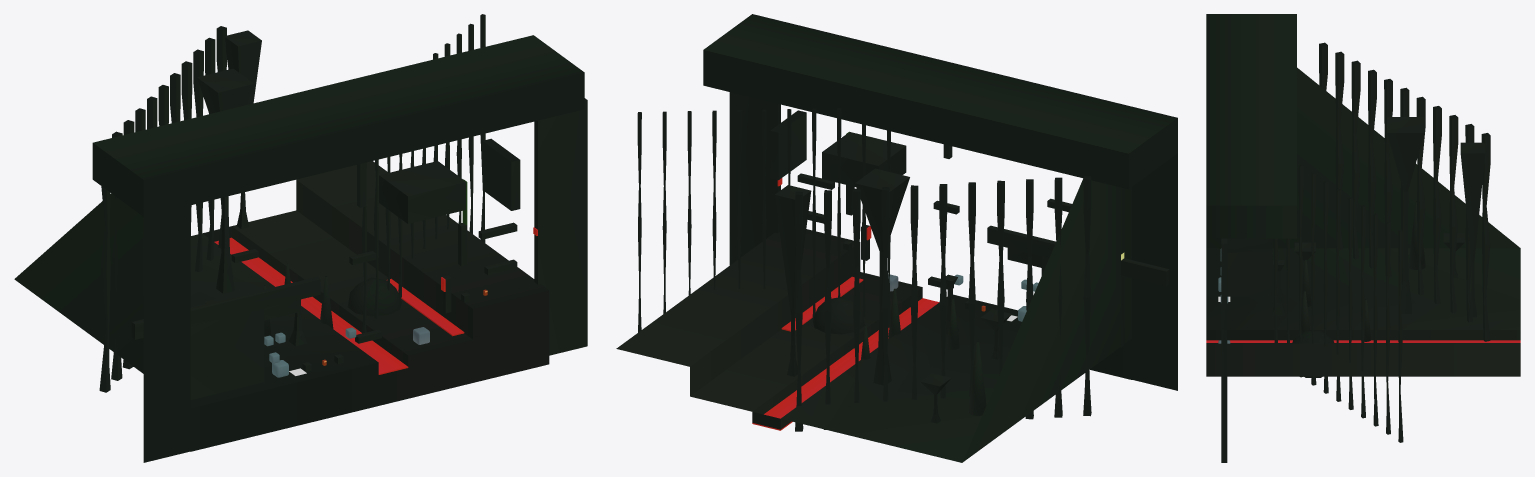
Rendered from tutorial.glb.
3 views of the same model, side by side, from view 1: azimuth 30°, elevation 25°; view 2: azimuth 150°, elevation 25°; view 3: azimuth 270°, elevation 25° (orthographic). The views are drawn at different scales.
Visible parts, largest first — view 1: Ground.069, Ground.075, Pole.004, Ground.073, Ground.078, Pole.005, Cube.014, Ground.072, danger, Ground.077, Cube.015, Icosphere.002 (+1 smaller); view 2: Ground.069, Pole.004, Pole.005, Ground.075, Cube.014, Ground.078, Cube.015, danger, Ground.072, Ground.077, Icosphere.002, Cylinder.014 (+1 smaller); view 3: Ground.069, Pole.004, Pole.005, Cube.014, Ground.077, Cube.015, Ground.075, danger, Cylinder.014, Ground.078, Icosphere.002, Cube.012.
Boxes of the visible parts, x1=… form: Ground.069: x1=14, y1=35, x2=584, y2=462; Ground.075: x1=534, y1=98, x2=587, y2=355; Pole.004: x1=99, y1=26, x2=226, y2=392; Ground.073: x1=190, y1=308, x2=264, y2=399; Ground.078: x1=379, y1=161, x2=465, y2=223; Pole.005: x1=362, y1=14, x2=485, y2=333; Cube.014: x1=197, y1=68, x2=253, y2=293; Ground.072: x1=131, y1=276, x2=320, y2=339; danger: x1=214, y1=237, x2=408, y2=374; Ground.077: x1=482, y1=138, x2=520, y2=210; Cube.015: x1=225, y1=30, x2=261, y2=229; Icosphere.002: x1=347, y1=277, x2=401, y2=316; Ground.069: x1=616, y1=14, x2=1177, y2=462; Pole.004: x1=795, y1=176, x2=1091, y2=431; Pole.005: x1=637, y1=108, x2=890, y2=332; Ground.075: x1=729, y1=92, x2=780, y2=265; Cube.014: x1=855, y1=168, x2=909, y2=385; Ground.078: x1=822, y1=132, x2=906, y2=186; Cube.015: x1=774, y1=185, x2=811, y2=376; danger: x1=752, y1=298, x2=939, y2=430; Ground.072: x1=987, y1=225, x2=1169, y2=286; Ground.077: x1=770, y1=110, x2=806, y2=180; Icosphere.002: x1=812, y1=297, x2=864, y2=334; Cylinder.014: x1=968, y1=341, x2=986, y2=415; Ground.069: x1=1206, y1=14, x2=1520, y2=376; Pole.004: x1=1319, y1=42, x2=1490, y2=341; Pole.005: x1=1274, y1=164, x2=1403, y2=442; Cube.014: x1=1387, y1=117, x2=1424, y2=313; Ground.077: x1=1227, y1=249, x2=1272, y2=296; Cube.015: x1=1460, y1=142, x2=1485, y2=317; Ground.075: x1=1221, y1=238, x2=1227, y2=462; danger: x1=1206, y1=340, x2=1520, y2=342; Cylinder.014: x1=1408, y1=201, x2=1425, y2=269; Ground.078: x1=1227, y1=238, x2=1272, y2=248; Icosphere.002: x1=1292, y1=331, x2=1334, y2=377; Cube.012: x1=1272, y1=260, x2=1284, y2=315.
Bounding box in the file's own units: 77 × 46.06 × 52.
2 materials, 2 textured.
